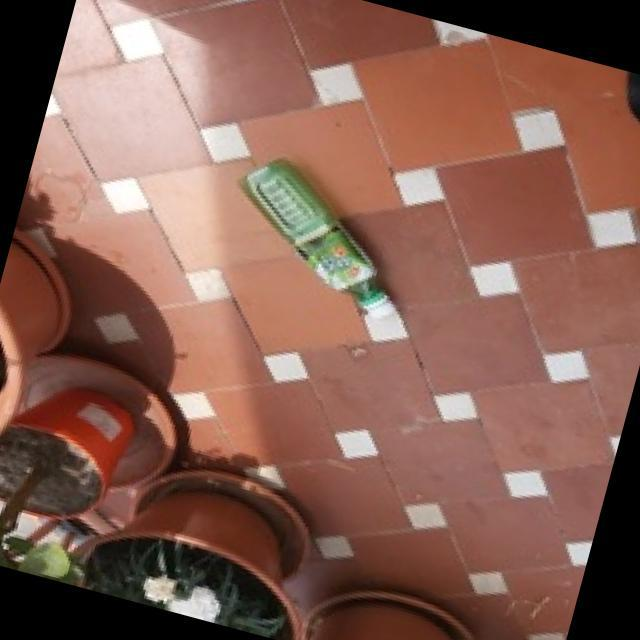good: (206, 142, 454, 356)
